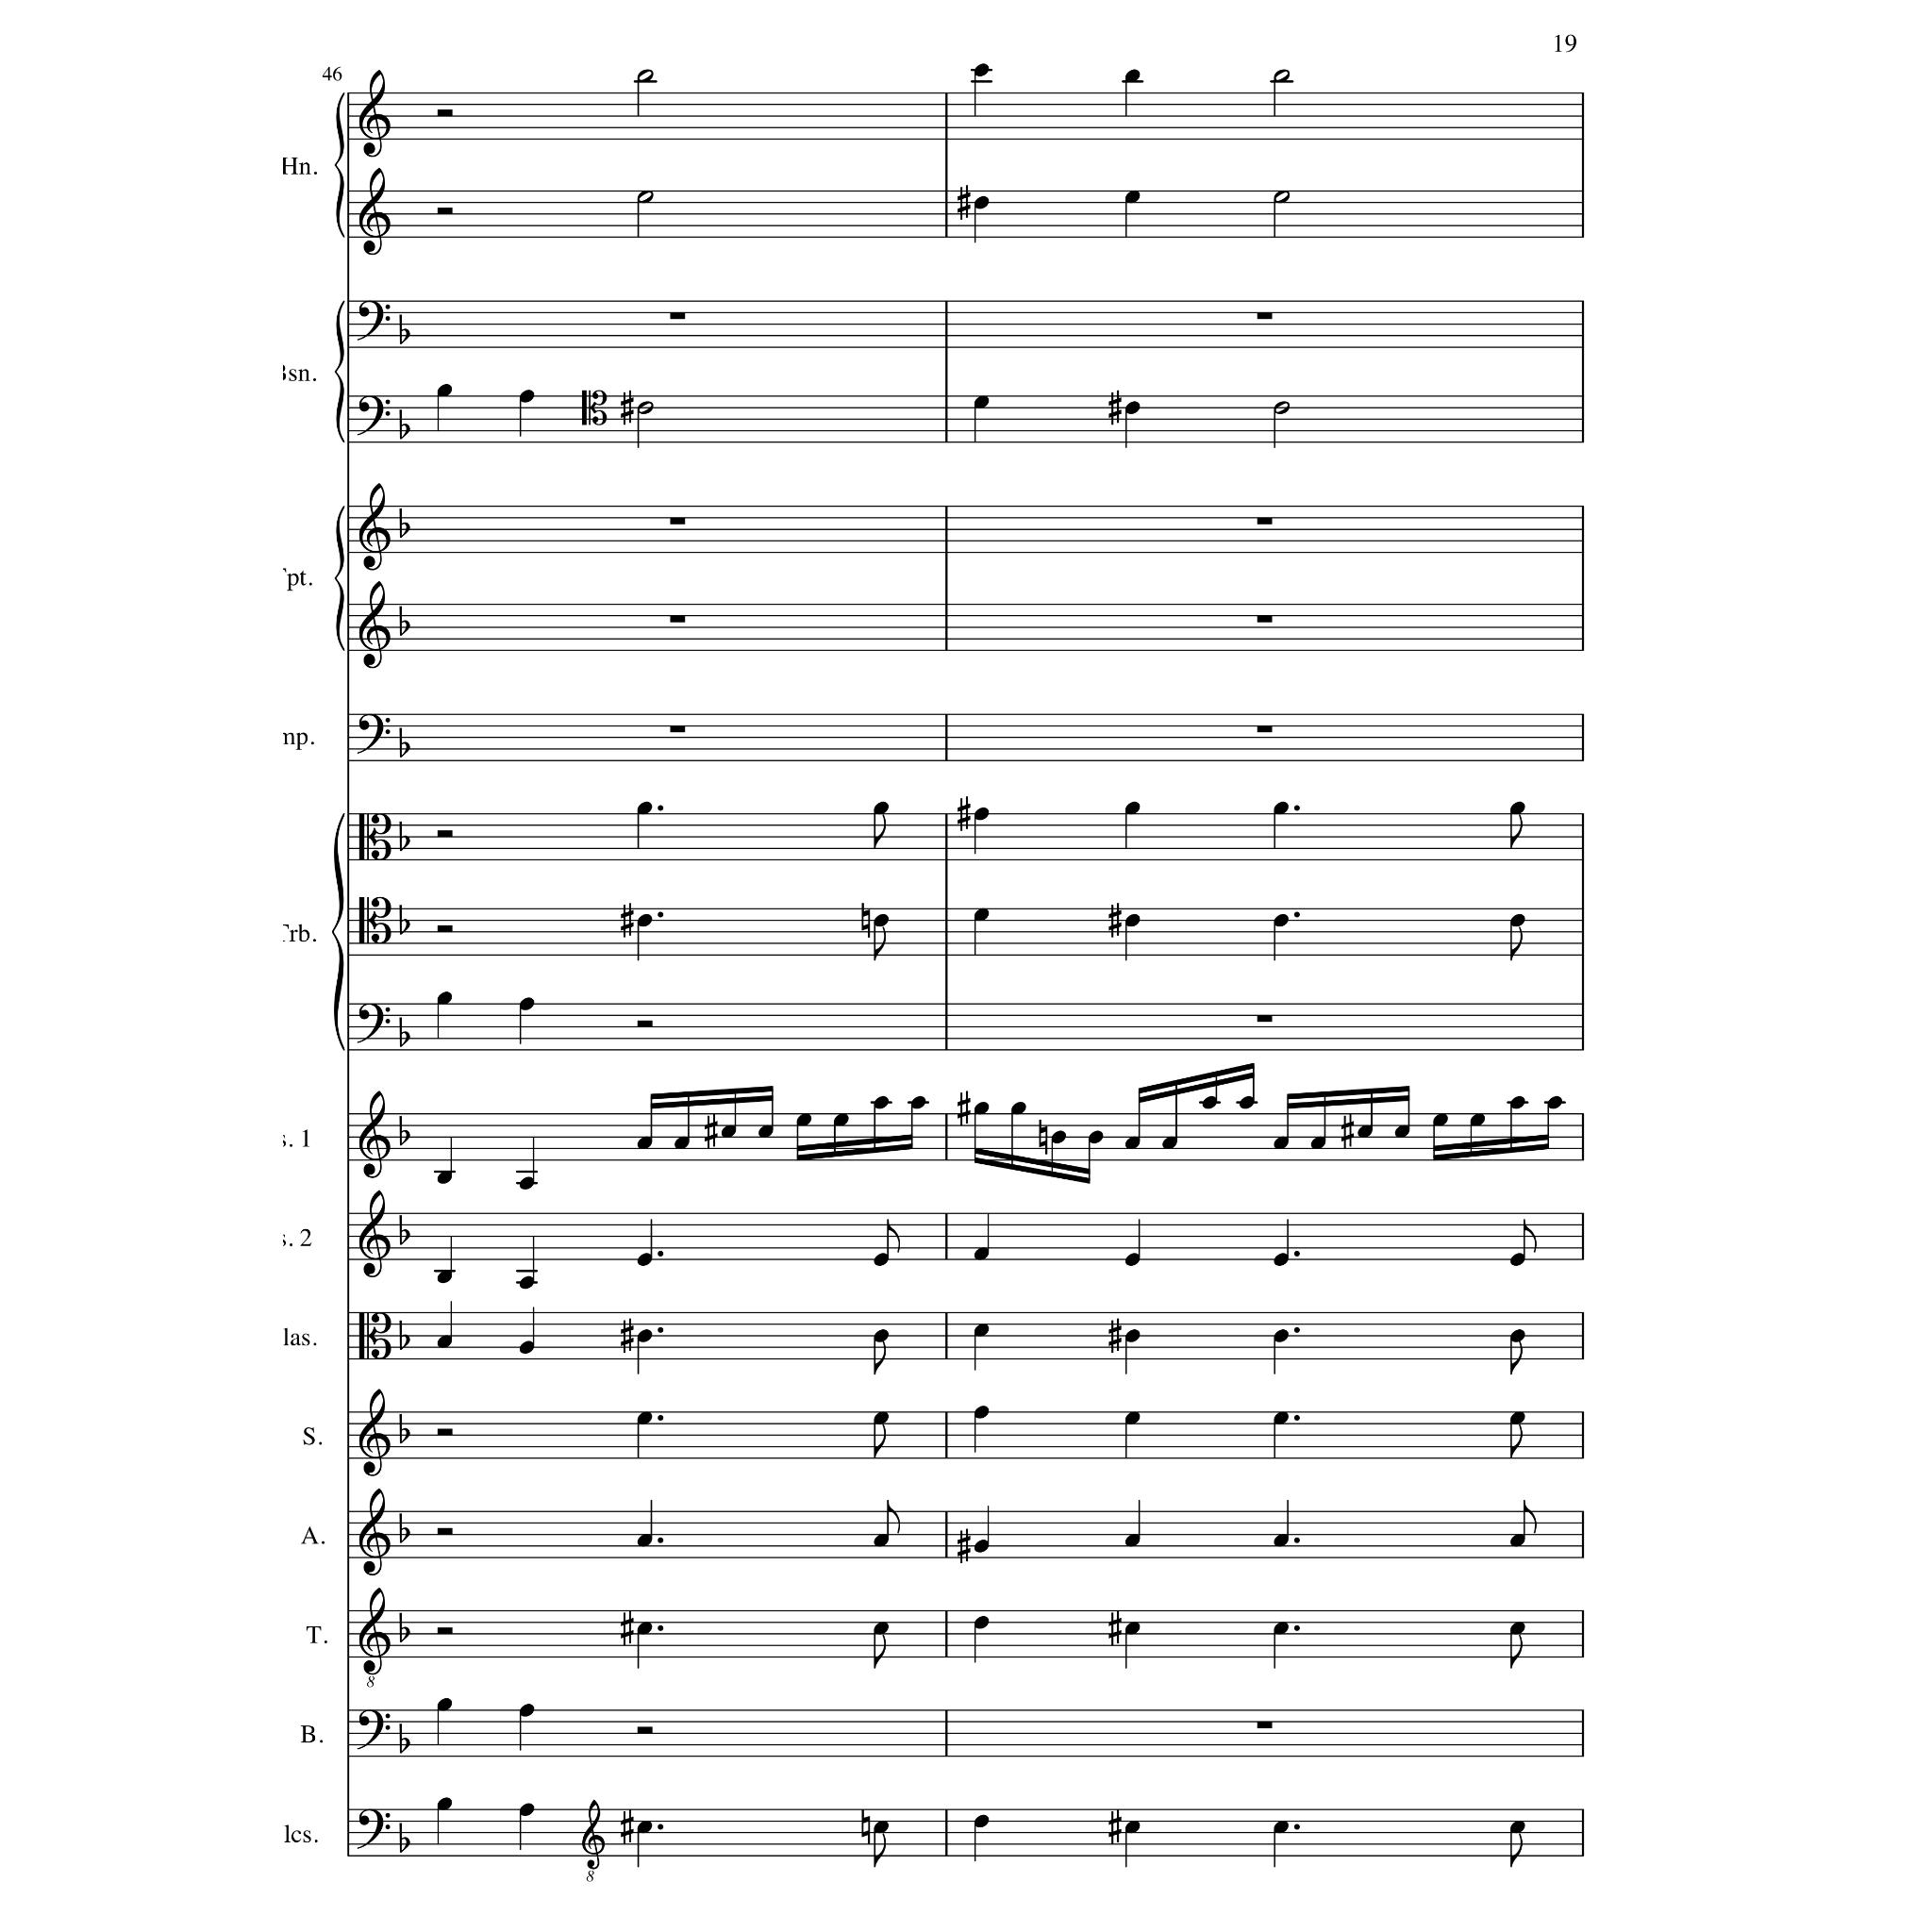brace: (330, 813, 345, 1051), (334, 506, 345, 653), (334, 92, 345, 240), (334, 301, 345, 444)
fClef: (357, 300, 391, 341), (357, 713, 391, 755), (357, 1709, 391, 1749), (357, 1809, 391, 1849), (357, 1004, 391, 1043), (357, 396, 391, 436)
flag8thDown: (874, 1634, 887, 1670), (874, 1832, 887, 1868), (874, 1340, 887, 1375), (874, 1424, 887, 1458), (874, 814, 887, 848), (874, 926, 887, 960), (1511, 1340, 1523, 1375), (1511, 1634, 1523, 1670), (1511, 1832, 1523, 1868), (1511, 1424, 1523, 1458), (1511, 926, 1523, 960), (1511, 814, 1523, 848)
flag8thUp: (1524, 1500, 1537, 1534), (1524, 1220, 1537, 1254), (887, 1500, 900, 1534), (887, 1220, 900, 1254)
gClef: (358, 1587, 391, 1675), (358, 69, 391, 158), (358, 1190, 391, 1278), (358, 1091, 391, 1179), (358, 1389, 391, 1477), (358, 168, 391, 257), (358, 483, 391, 572), (358, 580, 391, 669), (358, 1489, 391, 1575)
noteheadBlack: (1087, 1130, 1104, 1145), (1051, 1130, 1066, 1145), (437, 1796, 452, 1811), (437, 1334, 452, 1349), (519, 996, 534, 1011), (1124, 1622, 1141, 1635), (1124, 1534, 1141, 1547), (1124, 1253, 1141, 1266), (1124, 1137, 1141, 1150), (1124, 1821, 1141, 1834), (1124, 1411, 1141, 1424), (1124, 914, 1141, 927), (1124, 1329, 1141, 1342), (1238, 1096, 1255, 1109), (1124, 802, 1141, 815), (1124, 70, 1141, 83), (1124, 191, 1141, 204), (1124, 402, 1141, 415), (1509, 1096, 1526, 1109), (1509, 1253, 1526, 1266), (1509, 1329, 1526, 1342), (1509, 1411, 1526, 1424), (1509, 1534, 1526, 1547), (1509, 1622, 1526, 1635), (1509, 1821, 1526, 1834), (1509, 914, 1526, 927), (1357, 1125, 1374, 1139), (1432, 1113, 1449, 1126), (1509, 802, 1526, 815), (1309, 1137, 1326, 1150), (832, 1113, 849, 1126), (674, 1137, 691, 1150), (909, 1096, 926, 1109), (636, 802, 653, 815), (636, 914, 653, 927), (636, 1137, 653, 1150), (636, 1253, 653, 1266), (636, 1329, 653, 1342), (636, 1411, 653, 1424), (636, 1534, 653, 1547), (636, 1622, 653, 1635), (636, 1821, 653, 1834), (1011, 1102, 1026, 1115), (1162, 1137, 1177, 1150), (1202, 1096, 1217, 1109), (1274, 914, 1289, 927), (1547, 1096, 1562, 1109), (1274, 1622, 1289, 1635), (1274, 802, 1289, 815), (1274, 1137, 1289, 1150), (1274, 1253, 1289, 1266), (1274, 1329, 1289, 1342), (1274, 1411, 1289, 1424), (1274, 1534, 1289, 1547), (1274, 1821, 1289, 1834), (1394, 1125, 1409, 1139), (1470, 1113, 1485, 1126), (437, 384, 452, 397), (437, 991, 452, 1005), (437, 1171, 452, 1184), (437, 1271, 452, 1284), (437, 1698, 452, 1711), (519, 1804, 534, 1817), (519, 1704, 534, 1717), (519, 391, 534, 404), (519, 1177, 534, 1191), (519, 1276, 534, 1290), (519, 1341, 534, 1354), (974, 1324, 989, 1337), (796, 1113, 811, 1126), (974, 1247, 989, 1260), (974, 1102, 989, 1115), (974, 908, 989, 922), (874, 802, 889, 815), (874, 914, 889, 927), (874, 1096, 889, 1109), (874, 1253, 889, 1266), (874, 1329, 889, 1342), (974, 808, 989, 821), (874, 1411, 889, 1424), (874, 1534, 889, 1547), (874, 1622, 889, 1635), (874, 1821, 889, 1834), (721, 1125, 736, 1139), (974, 1815, 989, 1828), (974, 1616, 989, 1629), (974, 1540, 989, 1553), (974, 1406, 989, 1419), (758, 1125, 774, 1139), (974, 395, 989, 408), (974, 196, 989, 209), (974, 64, 989, 77)
noteheadHalf: (1273, 70, 1290, 83), (1273, 191, 1290, 204), (1273, 402, 1290, 415), (637, 70, 654, 83), (637, 191, 654, 204), (637, 402, 654, 415)
restHalf: (436, 109, 453, 117), (436, 208, 453, 215), (436, 830, 453, 838), (436, 925, 453, 933), (436, 1428, 453, 1436), (436, 1528, 453, 1536), (436, 1627, 453, 1635), (636, 1726, 653, 1734), (636, 1021, 653, 1028)
restWhole: (670, 312, 685, 320), (670, 518, 685, 525), (670, 615, 685, 623), (670, 725, 685, 733), (1257, 312, 1272, 320), (1257, 518, 1272, 525), (1257, 615, 1272, 623), (1257, 725, 1272, 733), (1257, 1015, 1272, 1023), (1257, 1722, 1272, 1729)
